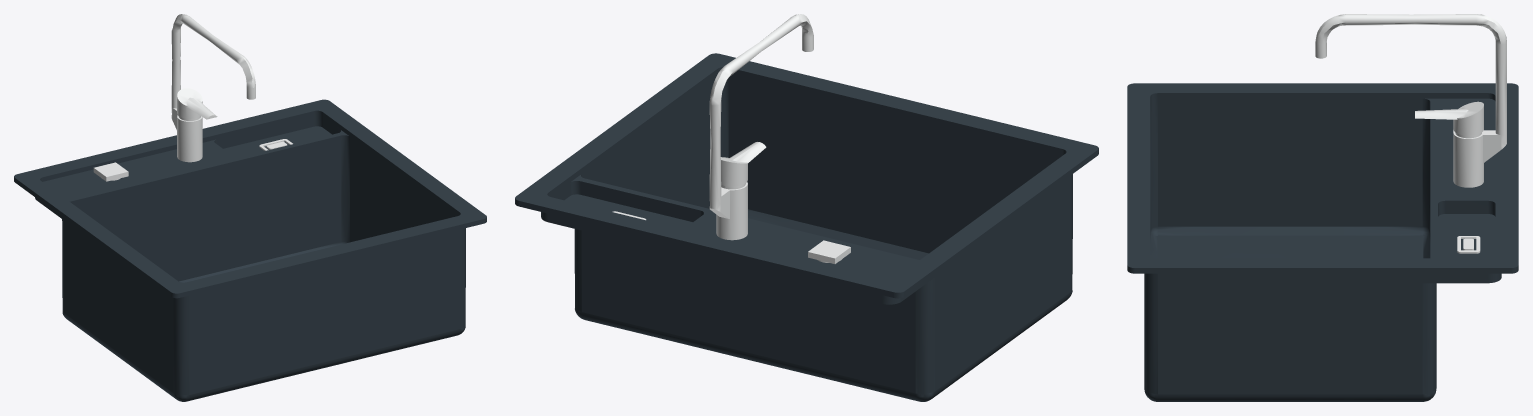
3 renders of one model, left to right at view 1: azimuth 30°, elevation 25°; view 2: azimuth 150°, elevation 25°; view 3: azimuth 270°, elevation 25°, orthographic. The views are drawn at different scales.
Parts seen in each view (by area): view 1: Object_2, Object_3; view 2: Object_2, Object_3; view 3: Object_2, Object_3.
Part boxes in pixels (x1,y1,x2,y2): Object_2: (14, 99, 486, 401); Object_3: (93, 14, 292, 181); Object_2: (515, 53, 1098, 401); Object_3: (612, 14, 850, 263); Object_2: (1127, 83, 1518, 401); Object_3: (1315, 14, 1506, 253).
Size of the model in its own units: 1.87 by 1.48 by 1.67.
